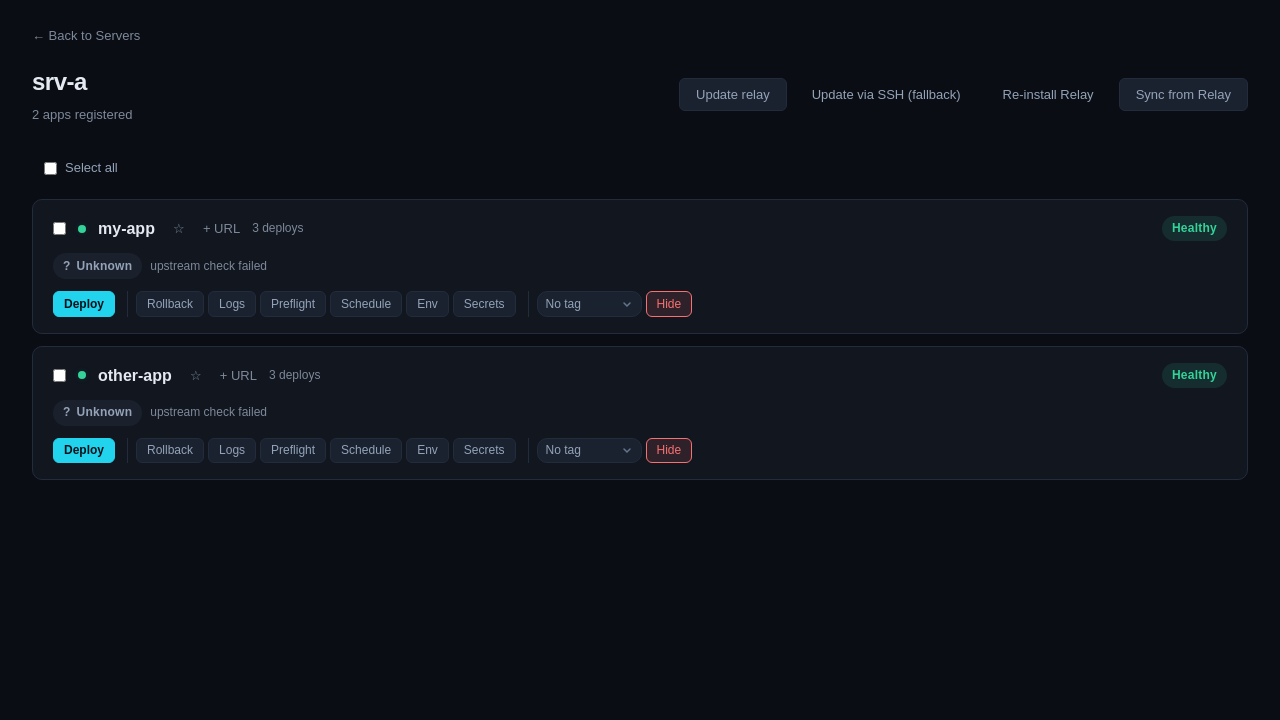
Test: ServerDetailPage - blocked deploys › bulk deploy result reports an app that could not be started with its error
Check: the text "other-app" is shown, box [98,362,172,388]
Click the checkbox named "Select my-app".
click(60, 229)  # box [53,222,66,235]
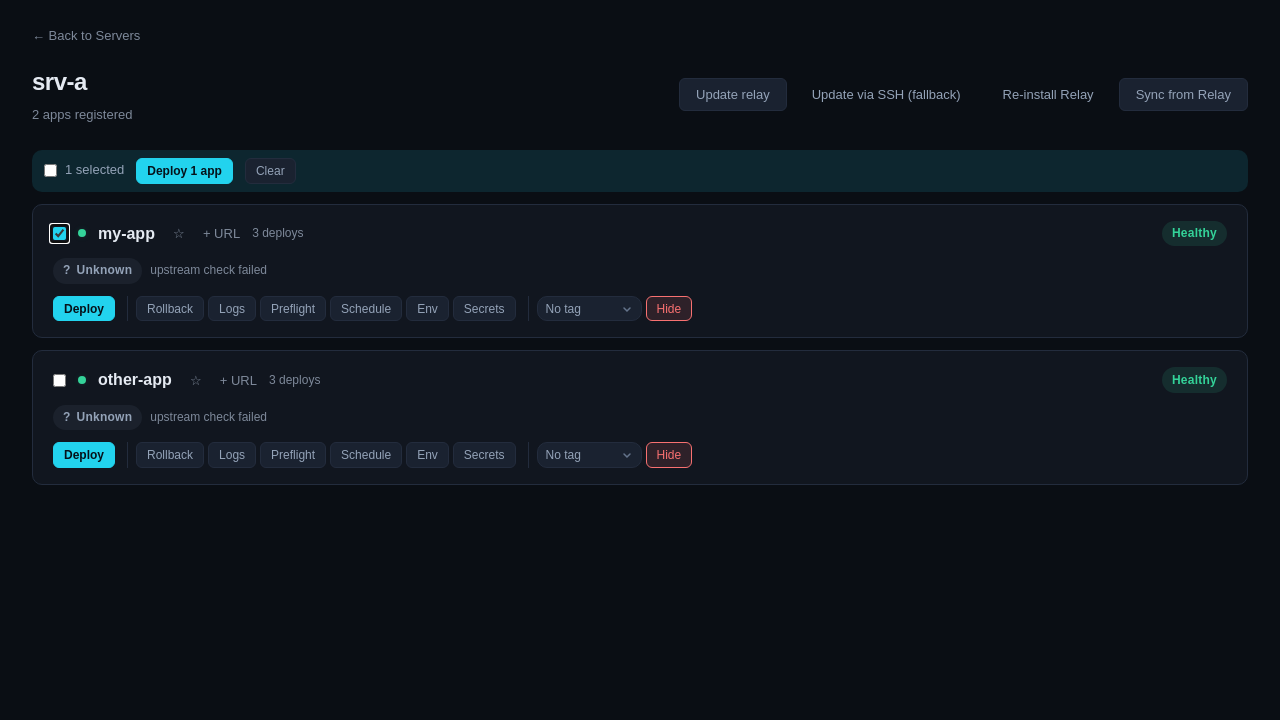
Click the checkbox named "Select other-app".
click(60, 380)  # box [53,374,66,387]
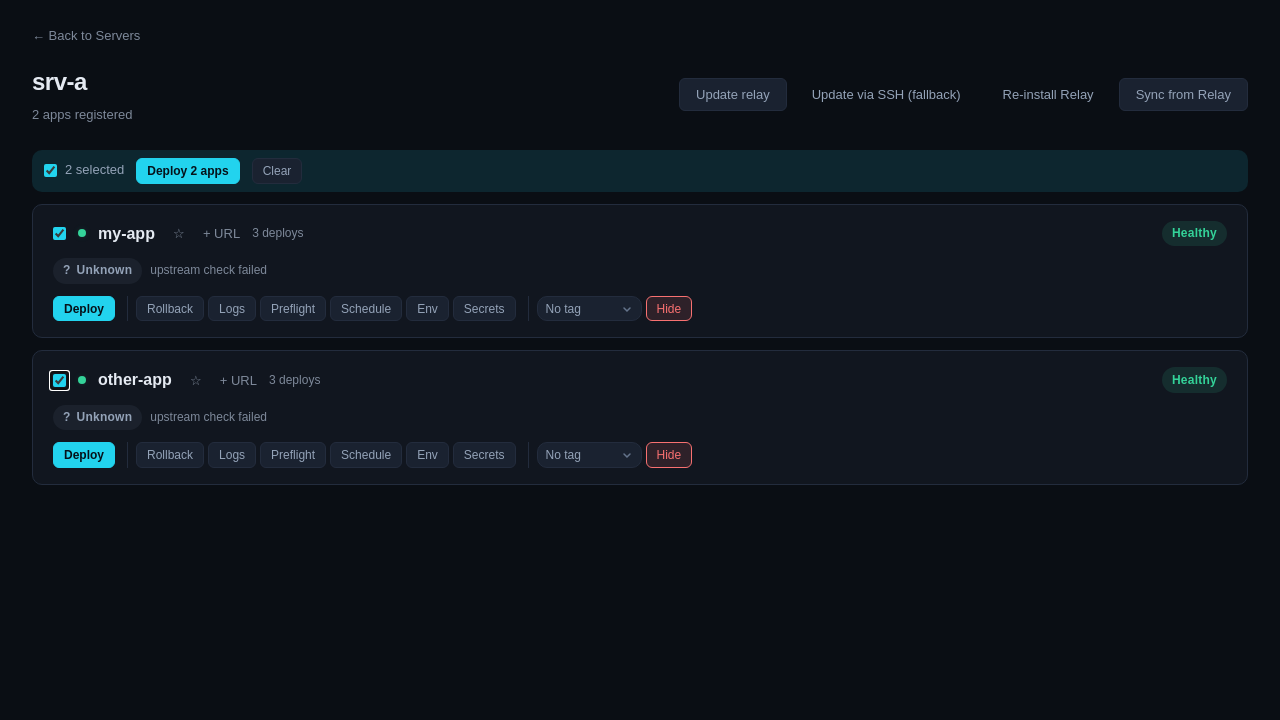
Click the button "Deploy 2 apps".
click(188, 171)  # box [136,158,240,184]
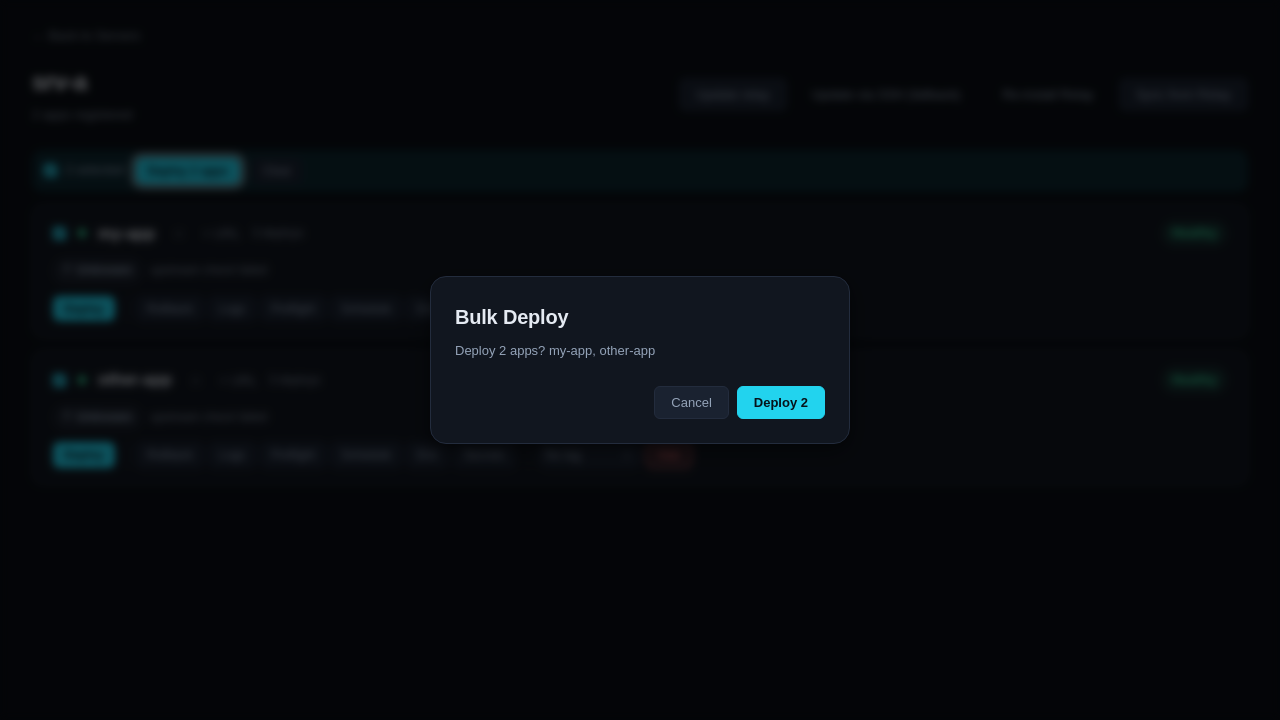
Click the button "Deploy 2".
click(781, 402)  # box [737,386,825,419]
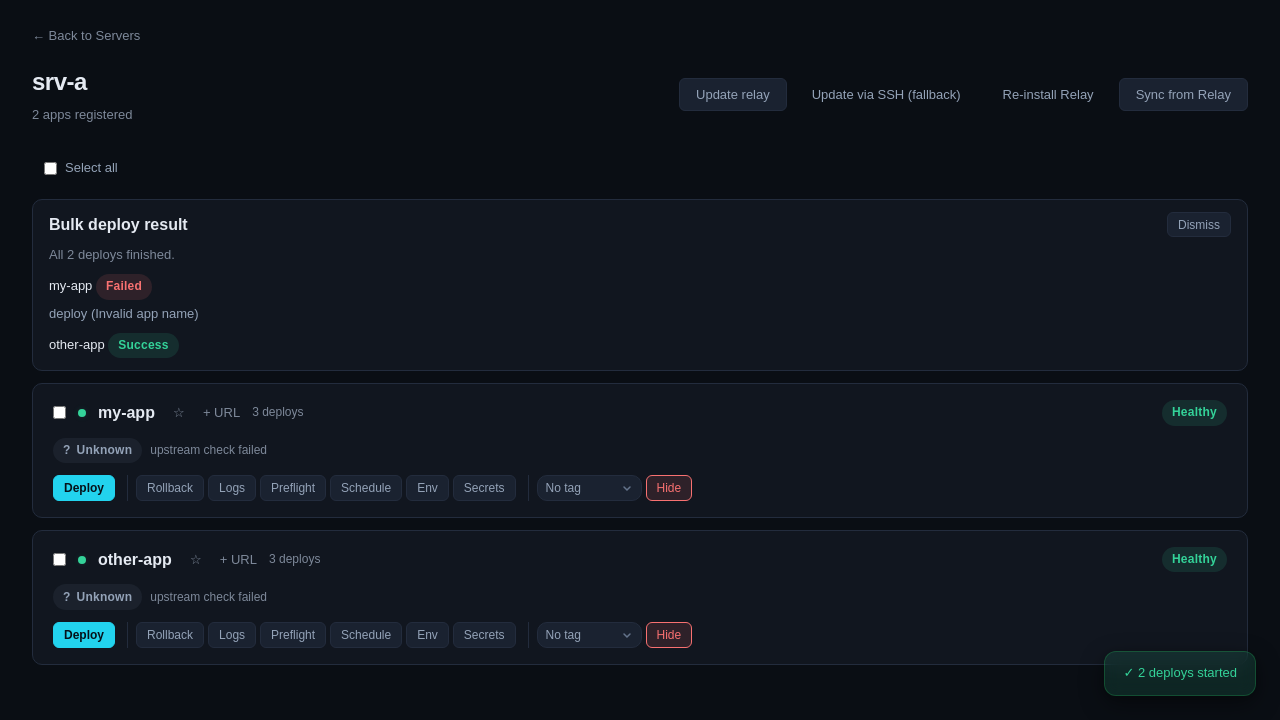
Check: the list item "my-app" shows "deploy (Invalid app name)", box [49,306,199,321]
Check: the list item "other-app" shows "Success", box [118,338,169,352]
